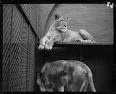lion: (37, 12, 96, 53)
